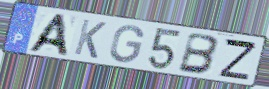5: (147, 26, 183, 71)
A: (25, 13, 71, 58)
B: (176, 31, 222, 76)
G: (108, 24, 146, 65)
K: (72, 17, 108, 61)
Z: (218, 37, 258, 82)
